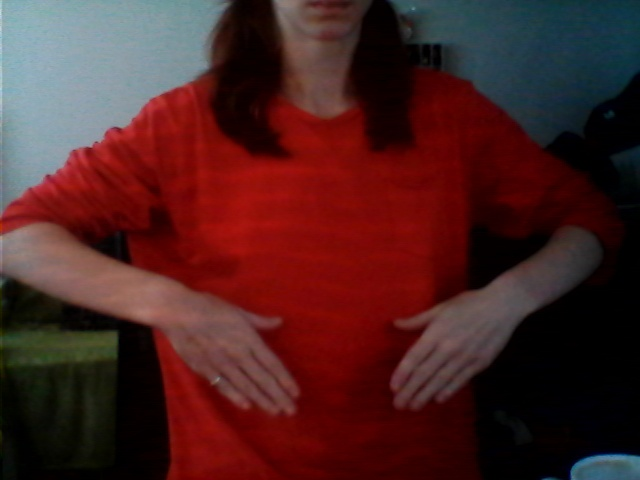zena: (164, 267, 499, 450)
